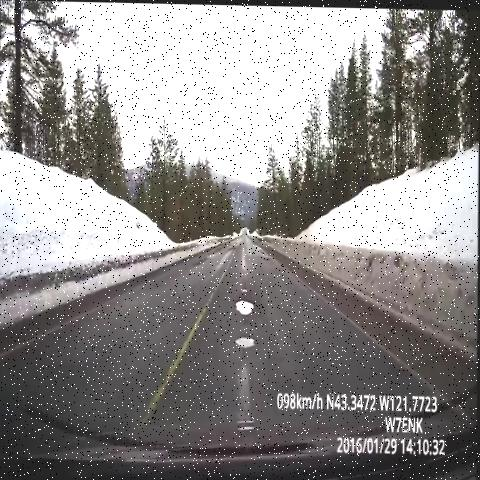pothole: (231, 280, 262, 322), (233, 323, 261, 358)
